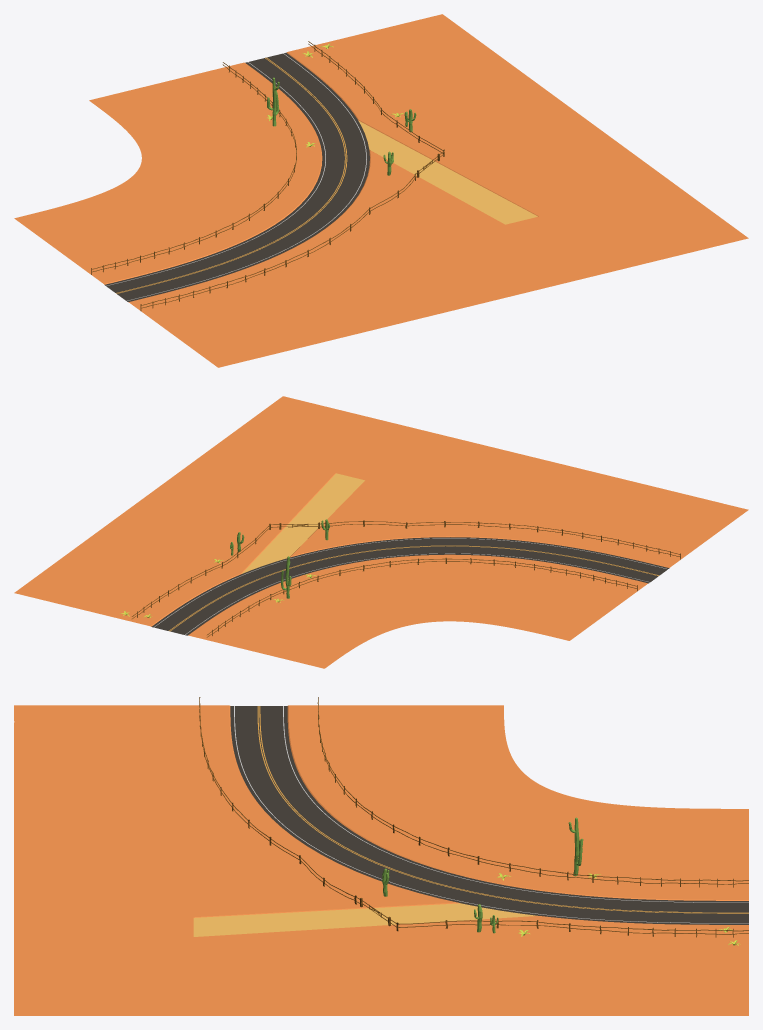
Rendered from DesertRoadStraightStart.fbx.
The picture shows the model from 3 angles, top to bottom: view 1: azimuth 30°, elevation 25°; view 2: azimuth 150°, elevation 25°; view 3: azimuth 270°, elevation 25°; orthographic projection. The views are drawn at different scales.
Parts seen in each view (by area): view 1: DRSSRoad, DRSSWoodFenceRight, DRSSWoodFenceLeft; view 2: DRSSRoad, DRSSWoodFenceRight, DRSSWoodFenceLeft; view 3: DRSSRoad, DRSSWoodFenceRight, DRSSWoodFenceLeft.
Part boxes in pixels (bbox=[...]): DRSSRoad: bbox=[14, 14, 748, 367]; DRSSWoodFenceRight: bbox=[140, 41, 444, 311]; DRSSWoodFenceLeft: bbox=[91, 62, 296, 274]; DRSSRoad: bbox=[14, 396, 748, 668]; DRSSWoodFenceRight: bbox=[132, 520, 680, 618]; DRSSWoodFenceLeft: bbox=[207, 557, 637, 637]; DRSSRoad: bbox=[14, 705, 748, 1015]; DRSSWoodFenceRight: bbox=[199, 697, 748, 937]; DRSSWoodFenceLeft: bbox=[317, 697, 748, 887].
Size of what is drawn, in the model's own units: 18000 by 1581 by 18000.
